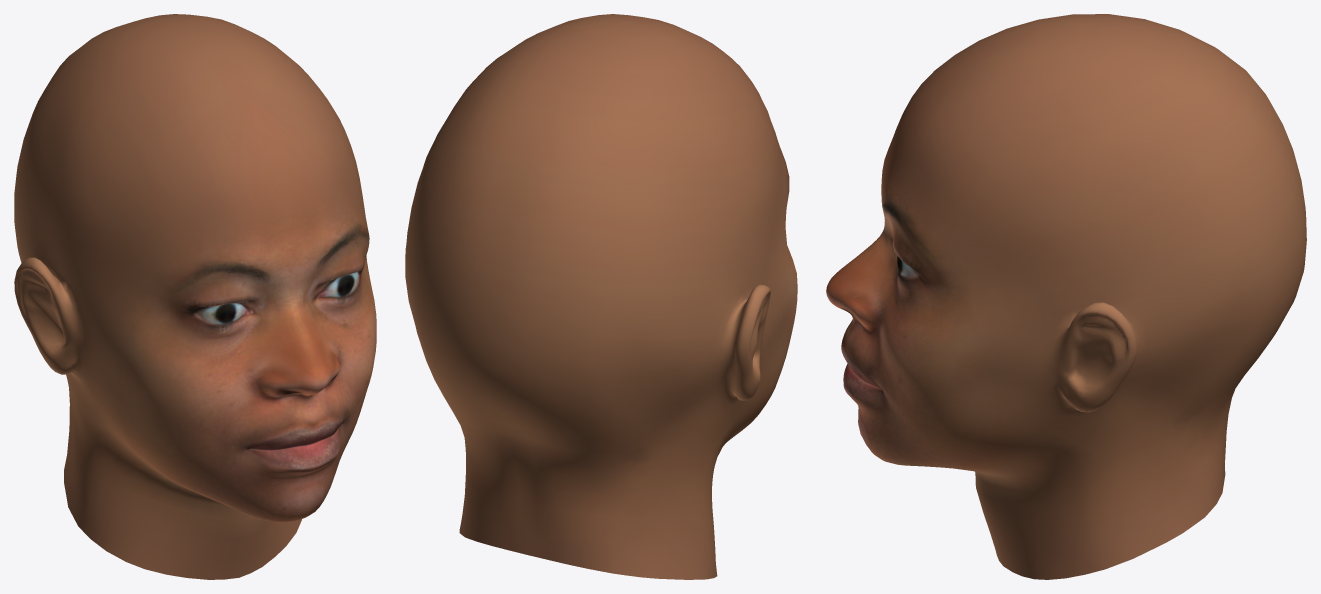
The model's file is v332_obj_ModifierEpicanthicFold.obj.
3 views of the same model, side by side, from view 1: azimuth 30°, elevation 25°; view 2: azimuth 150°, elevation 25°; view 3: azimuth 270°, elevation 25° (orthographic). The views are drawn at different scales.
Parts seen in each view (by area): view 1: HeadHires; view 2: HeadHires; view 3: HeadHires.
Part boxes in pixels (<box>): HeadHires: <box>14,14,376,579</box>; HeadHires: <box>405,14,797,579</box>; HeadHires: <box>826,14,1306,579</box>.
Size of the model in its own units: 187 by 282 by 233.
